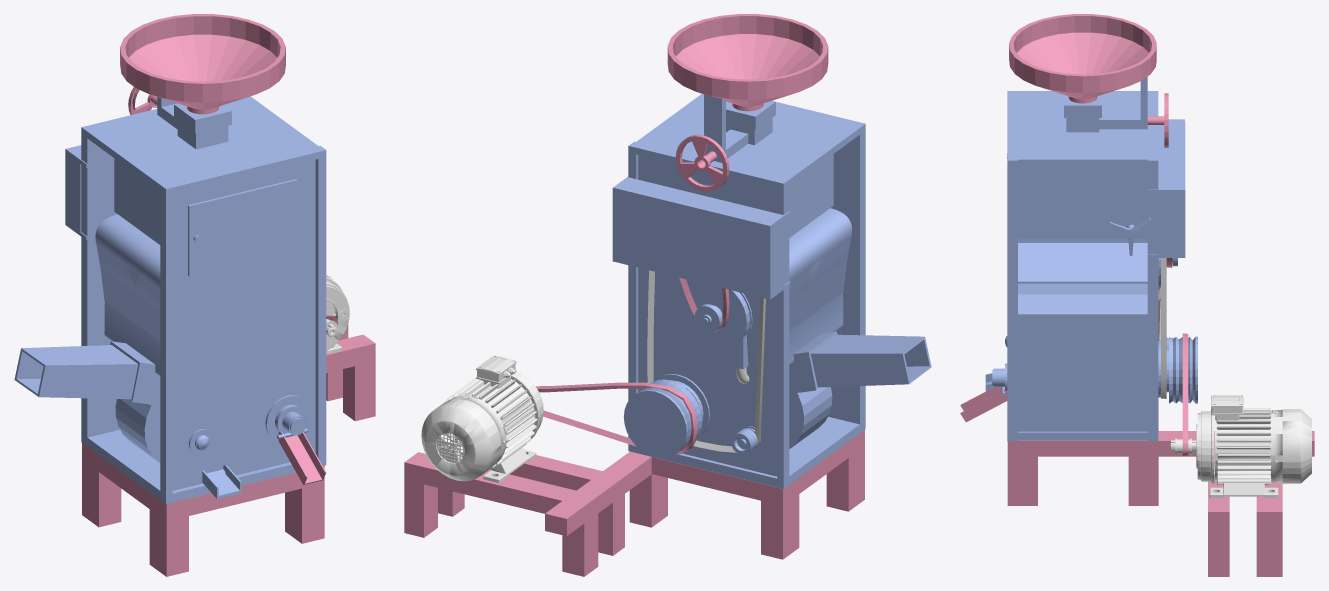
3 views of the same model, side by side, from view 1: azimuth 30°, elevation 25°; view 2: azimuth 150°, elevation 25°; view 3: azimuth 270°, elevation 25° (orthographic). The views are drawn at different scales.
Parts seen in each view (by area): view 1: Node1, Node2, Node3; view 2: Node1, Node2, Node3; view 3: Node1, Node2, Node3.
Boxes of the visible parts, box(x1,y1,x2,y2) form: Node1: box(14, 96, 326, 504); Node2: box(82, 14, 375, 576); Node3: box(326, 274, 349, 354); Node1: box(612, 94, 931, 488); Node2: box(404, 14, 864, 576); Node3: box(421, 270, 765, 482); Node1: box(985, 77, 1197, 441); Node2: box(960, 14, 1314, 576); Node3: box(1158, 258, 1311, 497).
Bounding box in the file's own units: 183908 × 200000 × 150700.
